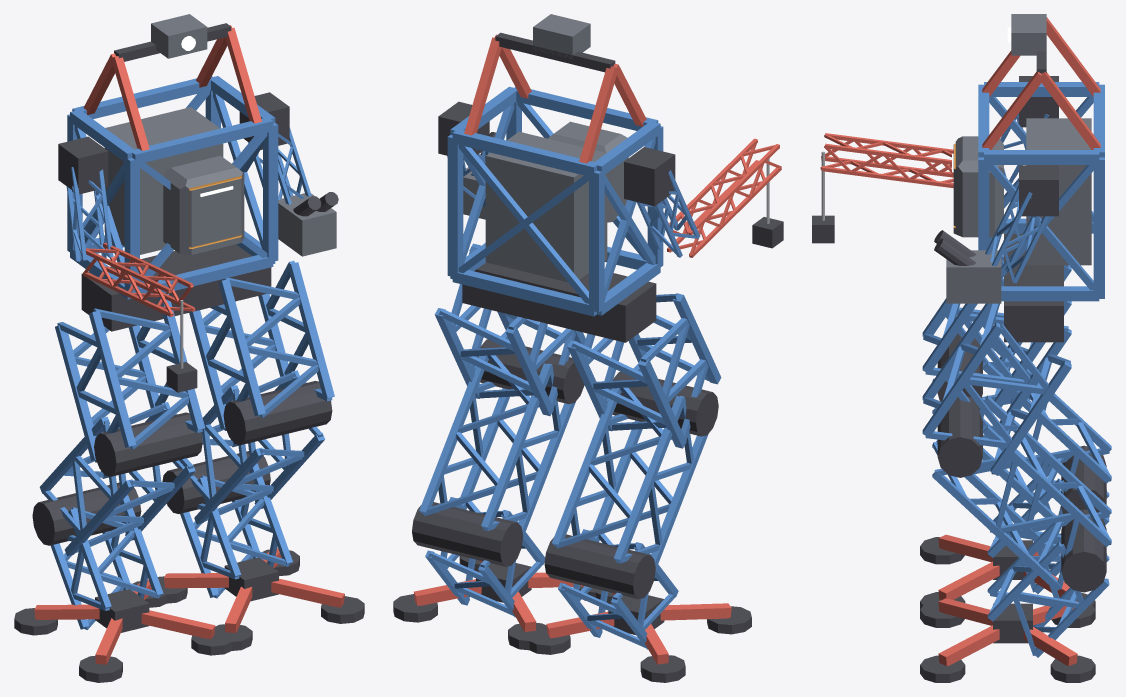
Rendered from stevedore.glb.
3 renders of one model, left to right at view 1: azimuth 30°, elevation 25°; view 2: azimuth 150°, elevation 25°; view 3: azimuth 270°, elevation 25°, orthographic. The views are drawn at different scales.
Parts seen in each view (by area): view 1: prow, core, hips, knee-1, knee1, mortar, hock-1, shoulder-1, cage7, hock1, cage9, nest (+57 smaller); view 2: core, hips, hock-1, hock1, shoulder-1, knee-1, cage6, cage4, cage10, cage8, knee1, x2b (+50 smaller); view 3: core, hips, prow, knee1, hock1, mortar, shoulder1, cage2, shin1_l1, cage8, cage0, shin1_l2 (+50 smaller).
Part boxes in pixels (x1,y1,x2,y2): prow: (163,155,244,254); core: (104,107,223,254); hips: (81,244,271,331); knee-1: (94,412,202,476); knee1: (223,381,332,445); mortar: (278,193,336,256); hock-1: (32,482,141,545); shoulder-1: (58,136,108,194); cage7: (132,117,273,164); hock1: (162,451,270,513); cage9: (263,123,278,261); nest: (151,14,207,58); core: (485,131,607,282); hips: (462,262,656,342); hock-1: (544,534,655,599); hock1: (412,502,523,566); shoulder-1: (624,147,675,206); knee-1: (610,371,718,436); cage6: (452,128,598,177); cage4: (452,270,596,316); cage10: (589,170,604,312); cage8: (447,135,463,277); knee1: (477,339,584,403); x2b: (458,145,588,303); core: (1026,118,1091,265); hips: (1004,233,1063,342); prow: (953,136,1003,237); knee1: (937,396,982,477); hock1: (1061,509,1106,592); mortar: (946,250,1001,303); shoulder1: (1019,165,1058,216); cage2: (984,150,1099,164); shin1_l1: (932,472,1061,591); cage8: (1093,157,1104,296); cage0: (1001,286,1099,301); shin1_l2: (982,425,1111,547).
Size of the model in its own units: 12.91 by 26 by 11.96.
